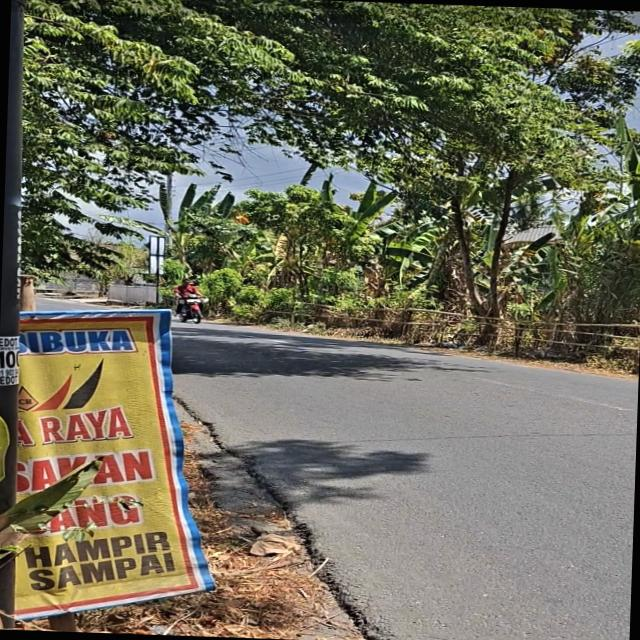WithoutHelmet: (171, 277, 206, 318)
